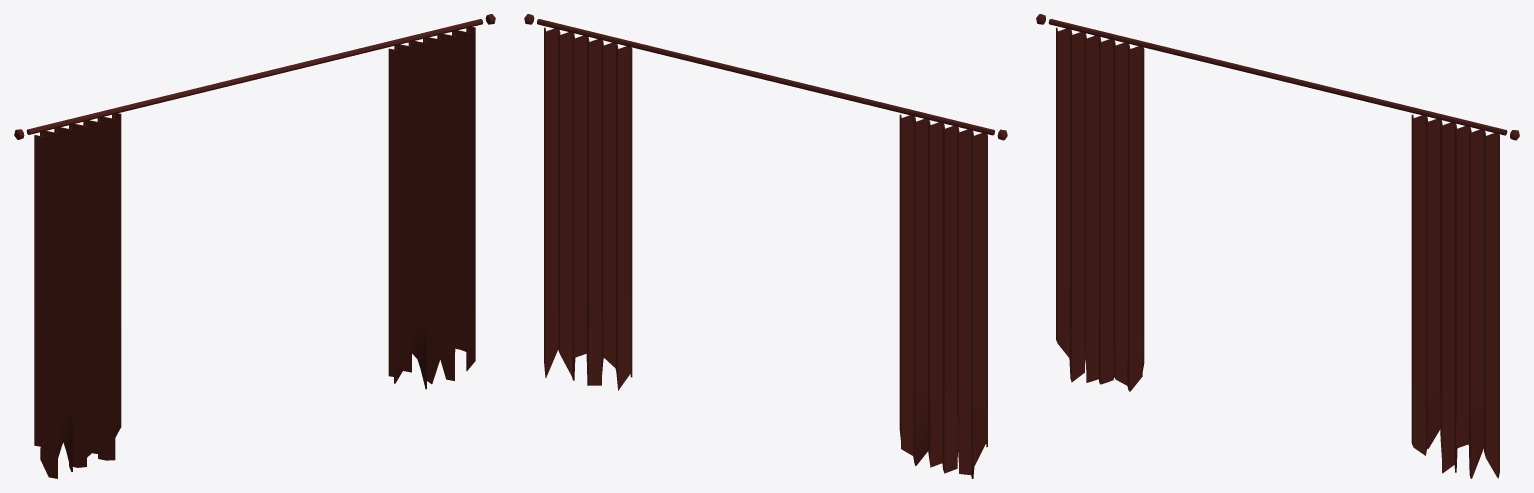
File: Curtains_Window.fbx
3 renders of one model, left to right at view 1: azimuth 30°, elevation 25°; view 2: azimuth 150°, elevation 25°; view 3: azimuth 330°, elevation 25°, orthographic.
Visible parts, largest first — view 1: Curtains_Window; view 2: Curtains_Window; view 3: Curtains_Window.
Part boxes in pixels (x1=…): Curtains_Window: x1=14, y1=14, x2=495, y2=478; Curtains_Window: x1=524, y1=14, x2=1007, y2=478; Curtains_Window: x1=1036, y1=14, x2=1519, y2=478.
Size of the model in its own units: 2.23 by 1.57 by 0.0666.
